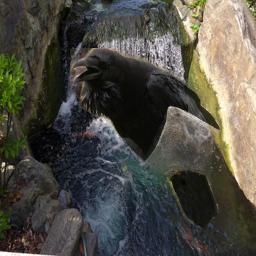Crow: (70, 48, 221, 232)
